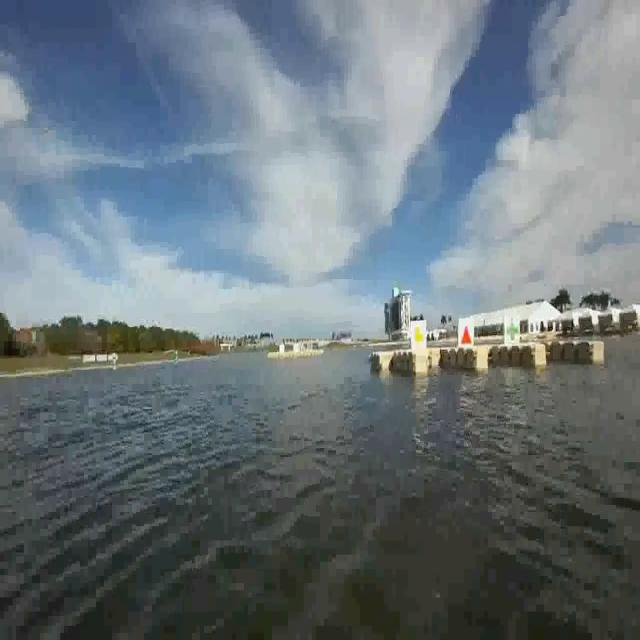blue-cross: (502, 315, 520, 351)
yellow-duck: (409, 322, 428, 348)
